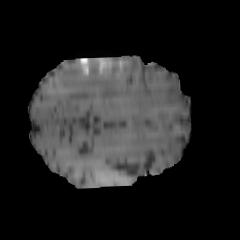glioma: (56, 53, 175, 110)
